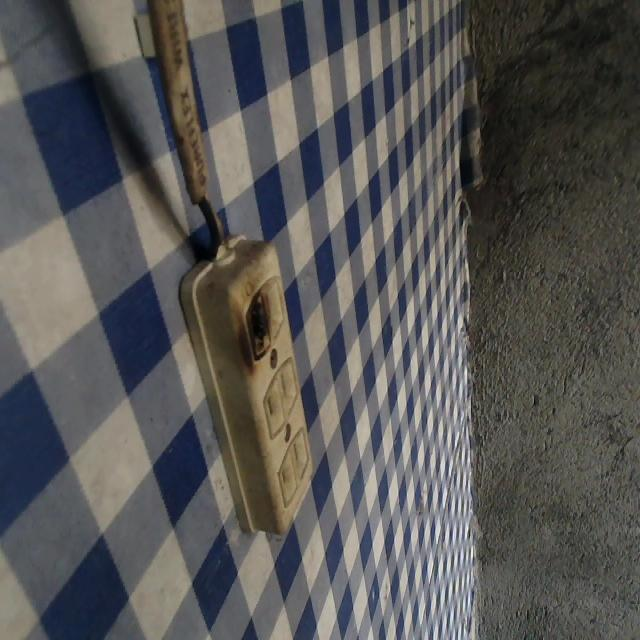-: (237, 289, 282, 371)
